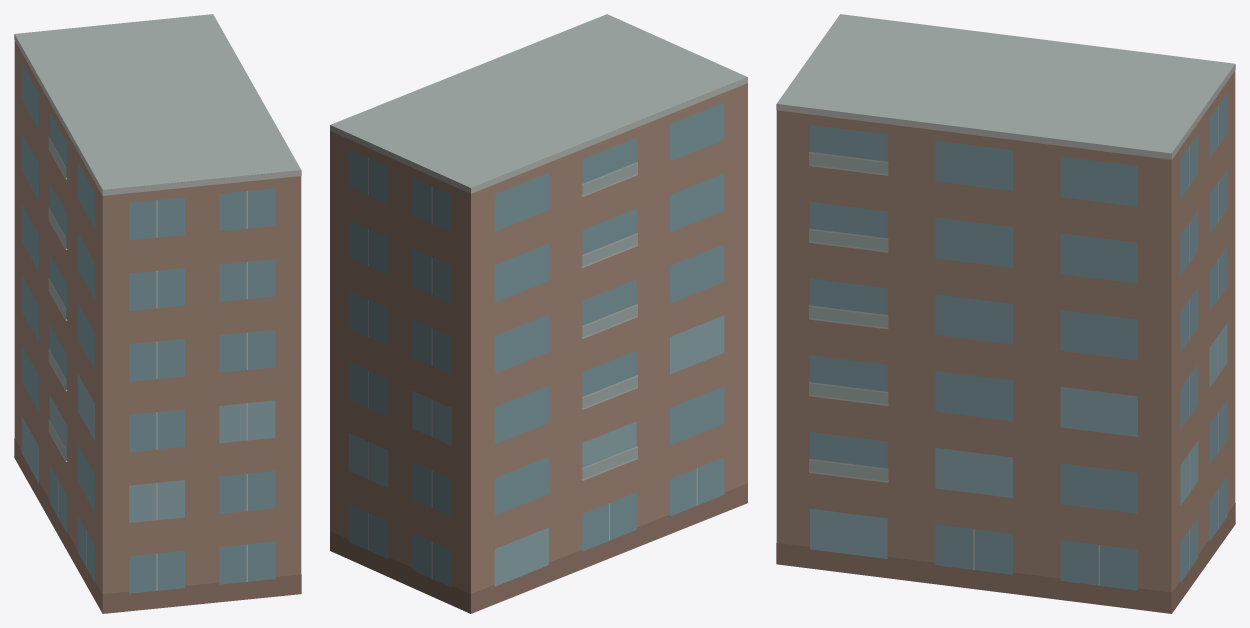
File: survey-upis-33042112.glb
The picture shows the model from 3 angles, left to right: view 1: azimuth 30°, elevation 25°; view 2: azimuth 150°, elevation 25°; view 3: azimuth 270°, elevation 25°; orthographic projection. The views are drawn at different scales.
Visible parts, largest first — view 1: survey-upis-33042112.tmp; view 2: survey-upis-33042112.tmp; view 3: survey-upis-33042112.tmp.
Boxes of the visible parts, x1,y1,x2,y2 form: survey-upis-33042112.tmp: [14, 14, 301, 613]; survey-upis-33042112.tmp: [330, 14, 747, 613]; survey-upis-33042112.tmp: [776, 14, 1235, 613].
Size of the model in its own units: 11.31 by 17.4 by 15.73.
